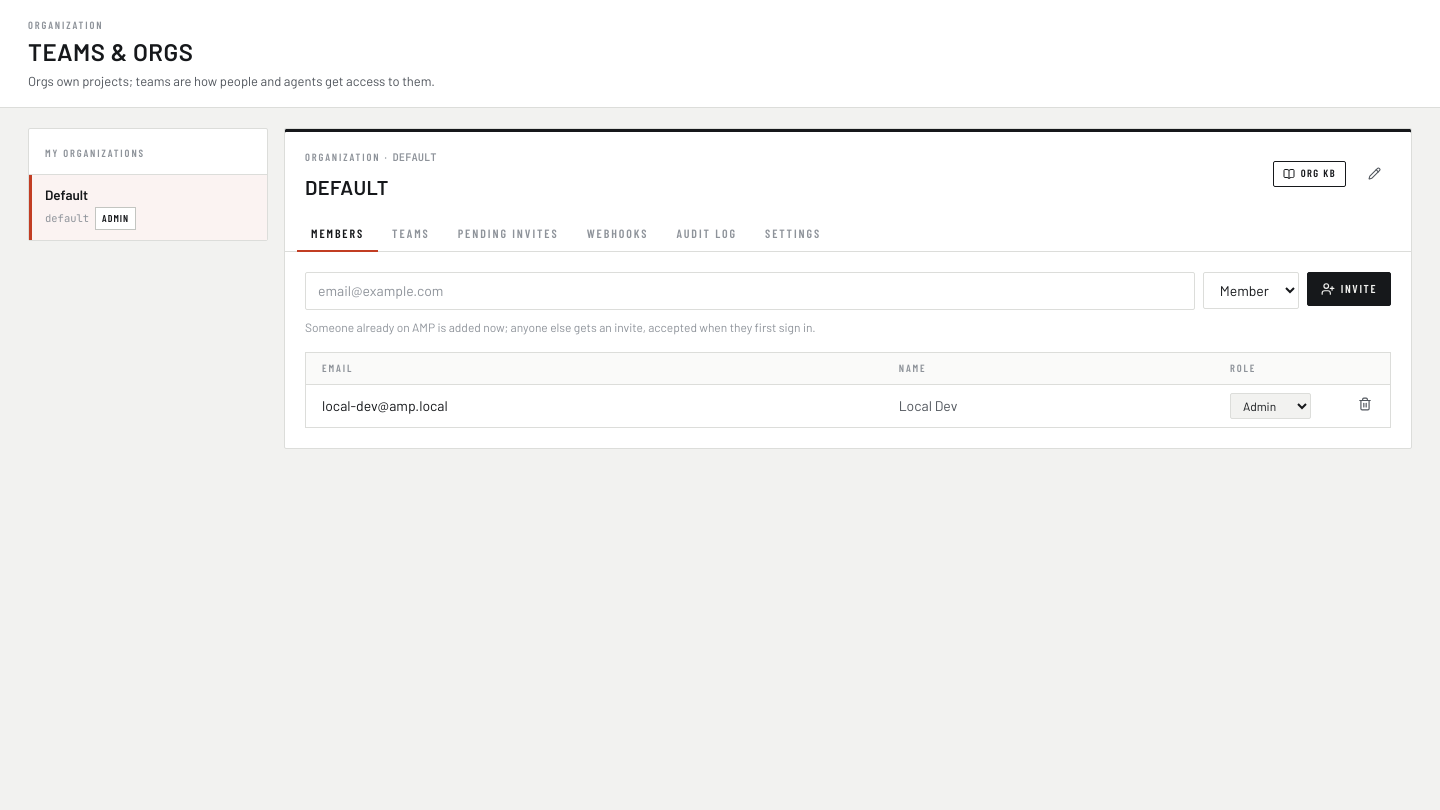
Test case: Teams & orgs > Inbox access (AMP #4877) › no action at all for a non-manager, even with the row expanded
Click the button "teams" at (411, 233), box [378, 214, 444, 252]
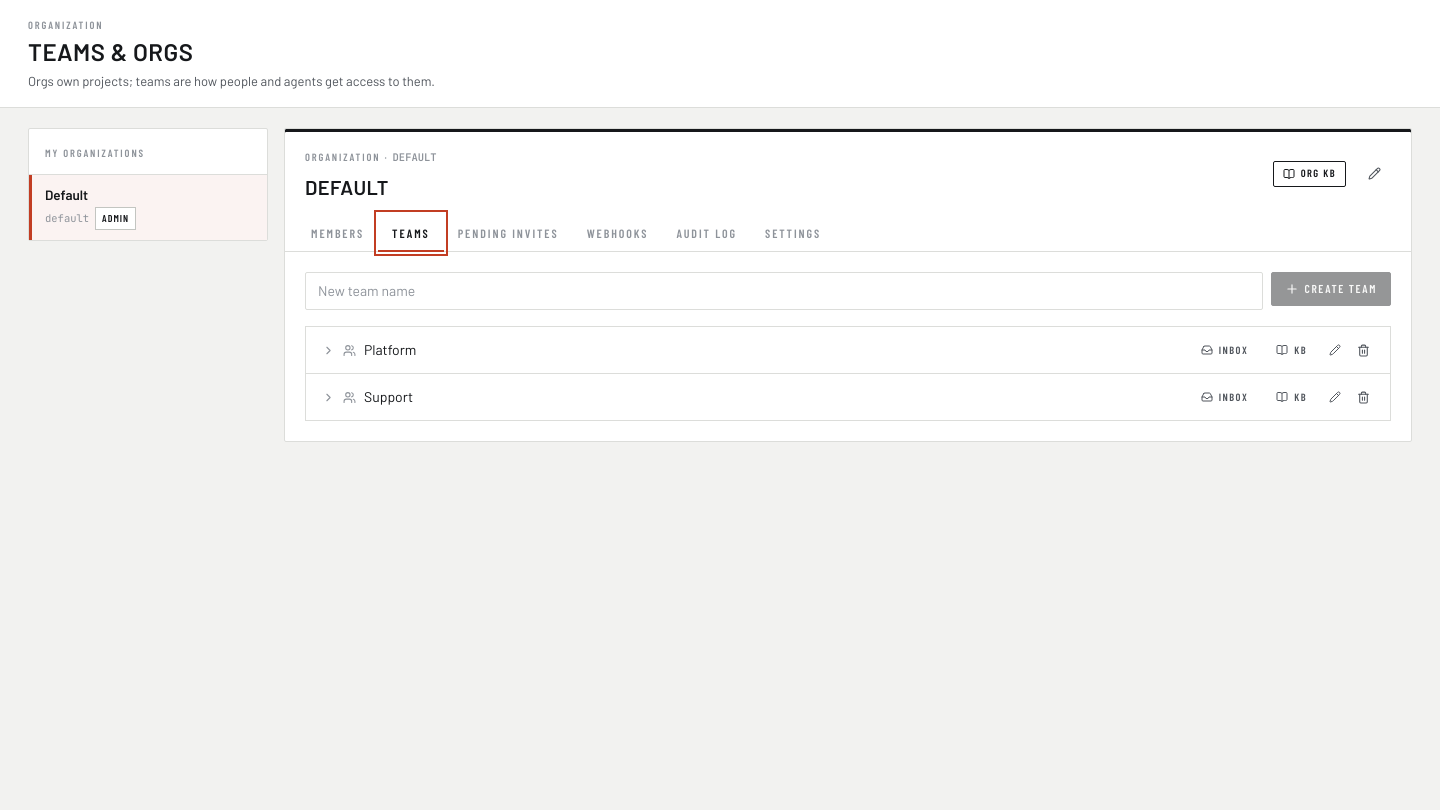
Expand the row through its own toggle: the members load, the action still does not exist.
Click the button "Platform" at (390, 350), box [322, 340, 1183, 360]
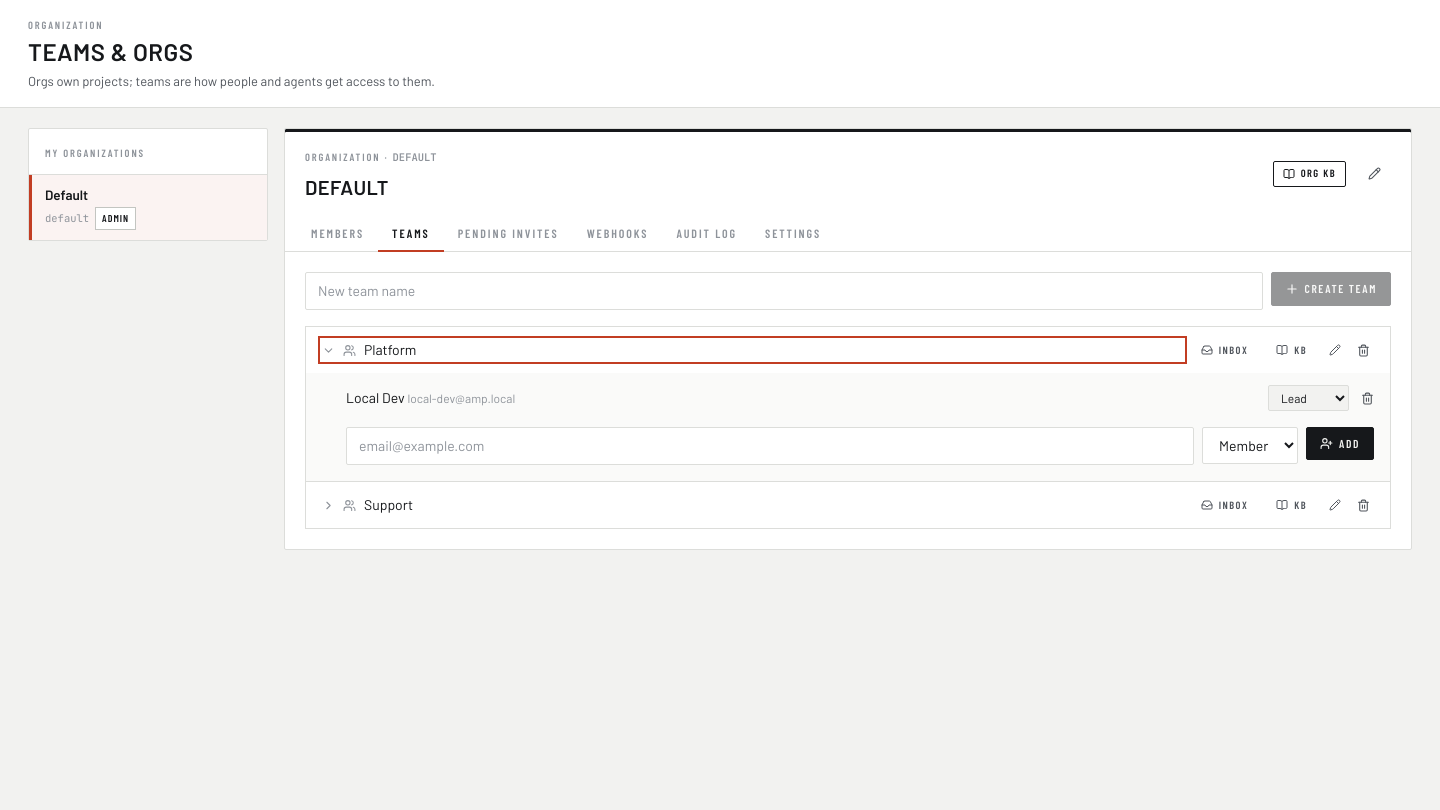
Expected: the text "local-dev@amp.local" is shown, [407, 391, 515, 405]
